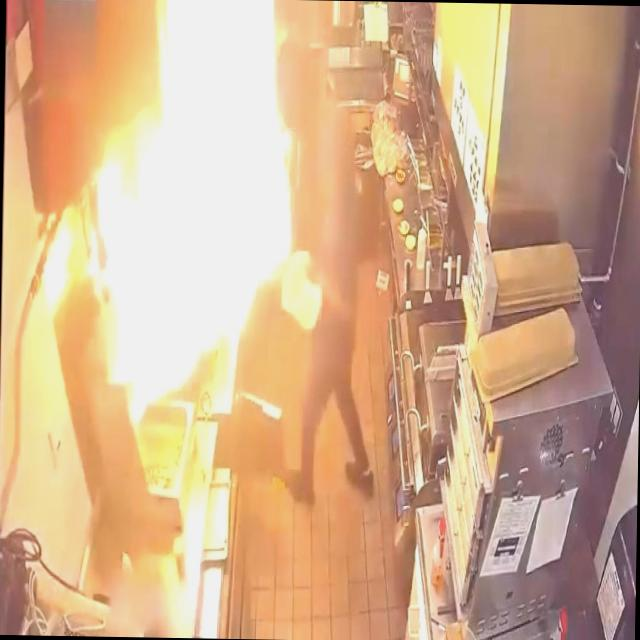fire: (10, 0, 307, 411)
